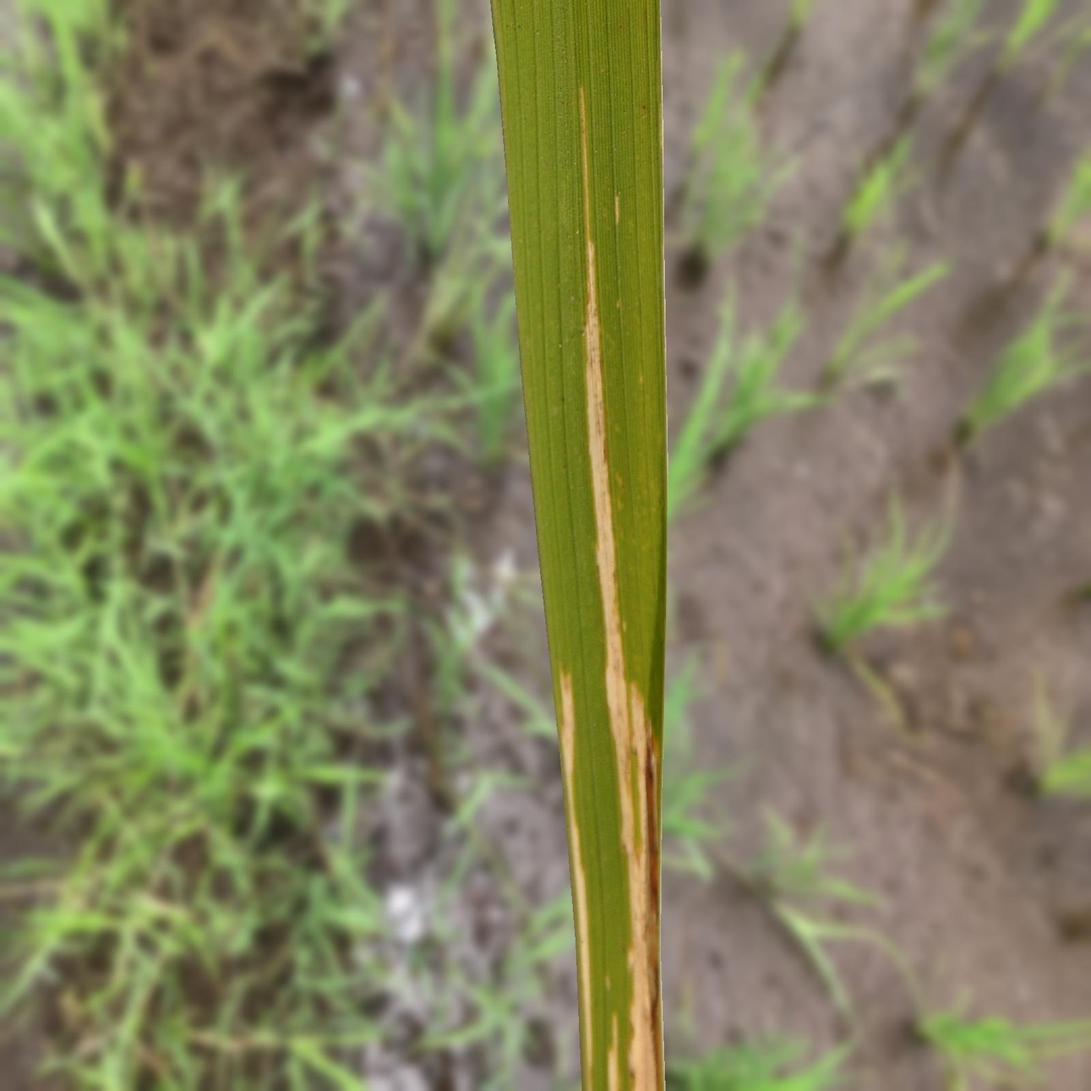BLB: (579, 87, 660, 1090), (559, 664, 593, 1090)
LEAF: (491, 0, 668, 1090)
